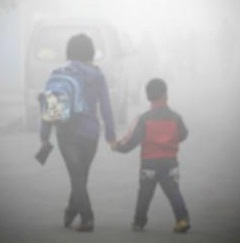person: (35, 33, 116, 233), (116, 77, 195, 234)
